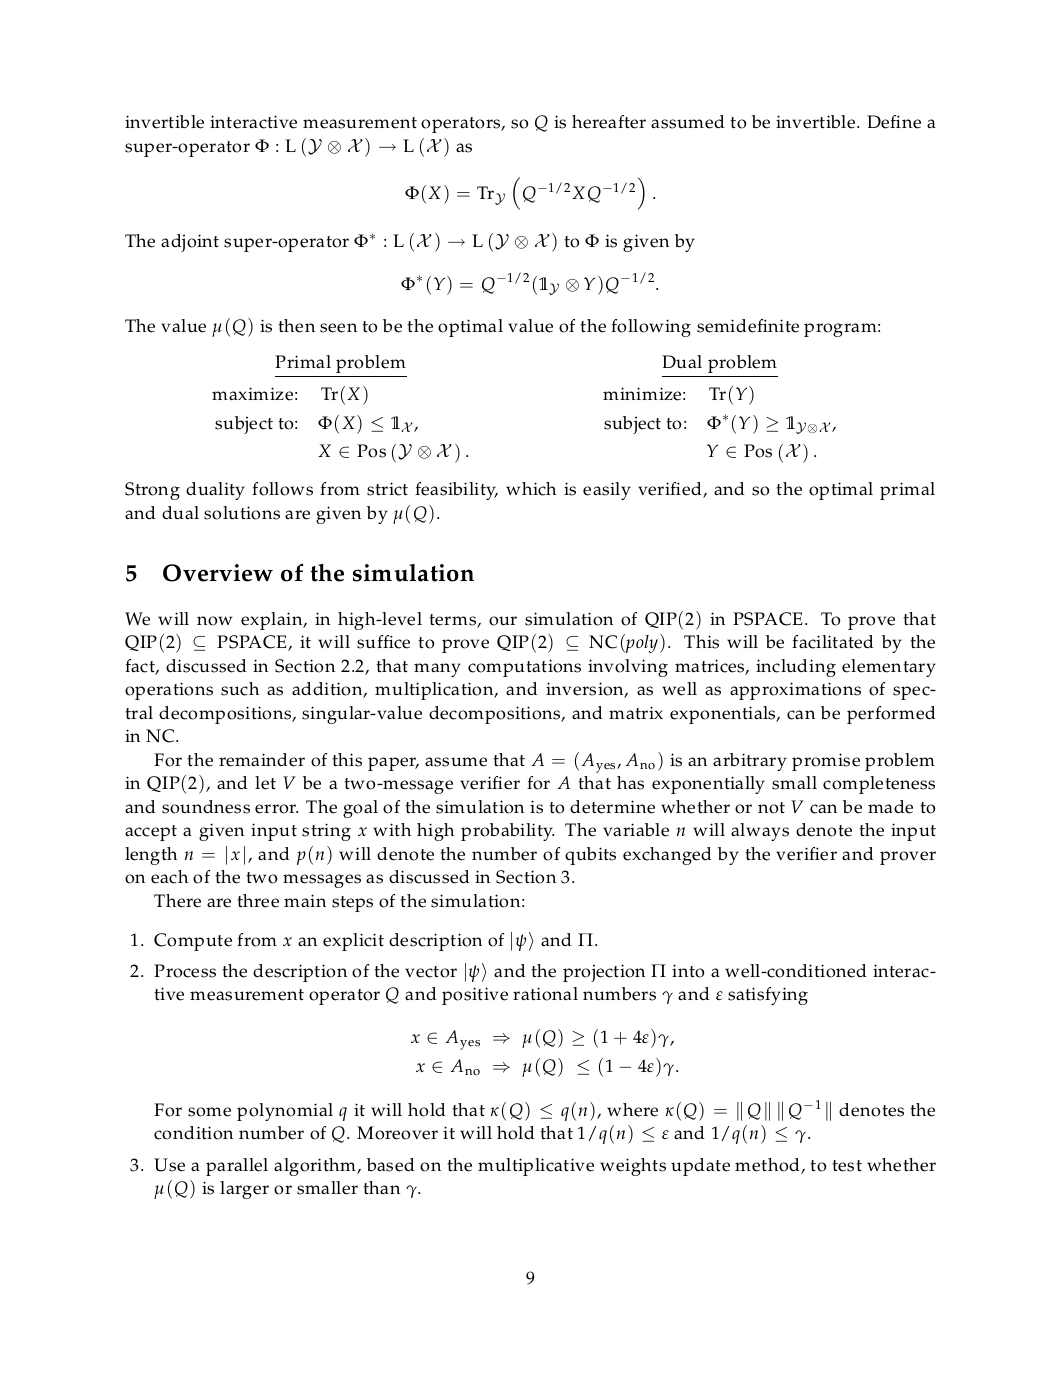Table: (212, 356, 468, 462), (603, 356, 835, 462)
formula: (405, 176, 655, 210), (401, 271, 658, 295), (411, 1028, 673, 1050), (416, 1056, 678, 1077)
